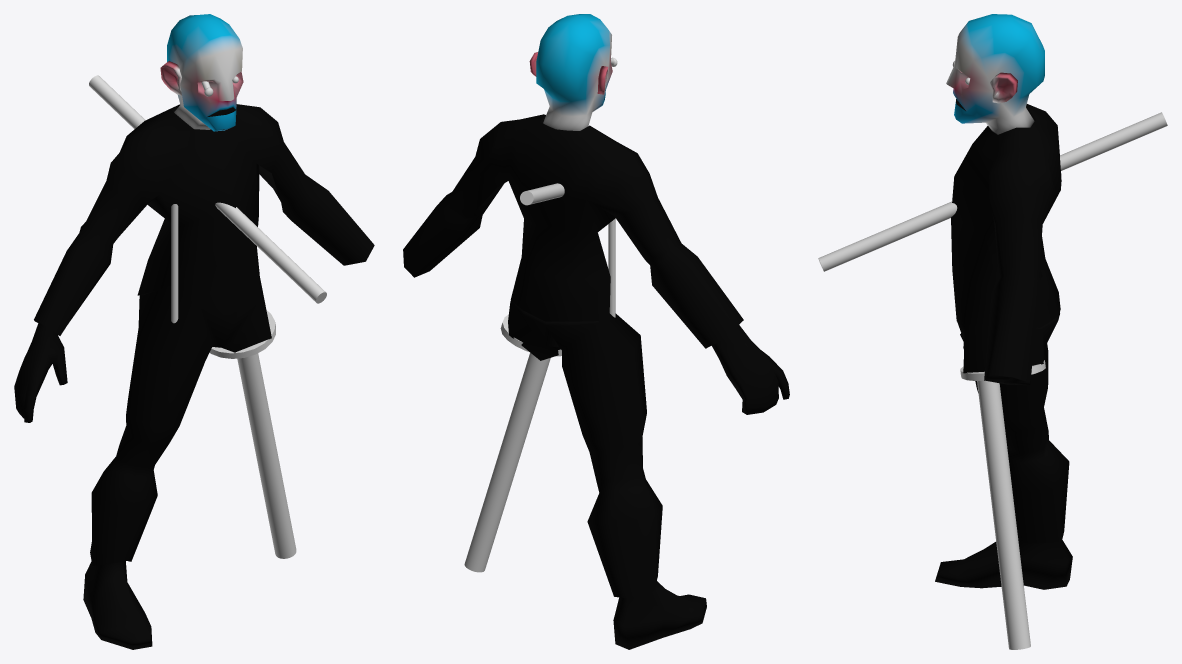
The model's file is zombie.fbx.
The picture shows the model from 3 angles, left to right: view 1: azimuth 30°, elevation 25°; view 2: azimuth 150°, elevation 25°; view 3: azimuth 270°, elevation 25°; orthographic projection. The views are drawn at different scales.
Parts seen in each view (by area): view 1: zombie_basemesh, pCylinder7, pCylinder3, pCylinder2, pCylinder6; view 2: zombie_basemesh, pCylinder7, pCylinder2, pCylinder3; view 3: zombie_basemesh, pCylinder7, pCylinder3.
Boxes of the visible parts, <box> form: zombie_basemesh: <box>14,14,374,649</box>; pCylinder7: <box>237,353,296,558</box>; pCylinder3: <box>89,75,326,303</box>; pCylinder2: <box>171,204,178,323</box>; pCylinder6: <box>209,310,275,358</box>; zombie_basemesh: <box>403,14,789,649</box>; pCylinder7: <box>464,352,550,572</box>; pCylinder2: <box>608,218,615,317</box>; pCylinder3: <box>520,183,564,205</box>; zombie_basemesh: <box>935,14,1072,589</box>; pCylinder7: <box>977,381,1030,649</box>; pCylinder3: <box>818,112,1167,271</box>.
Bounding box in the file's own units: 116 × 179 × 93.53.
